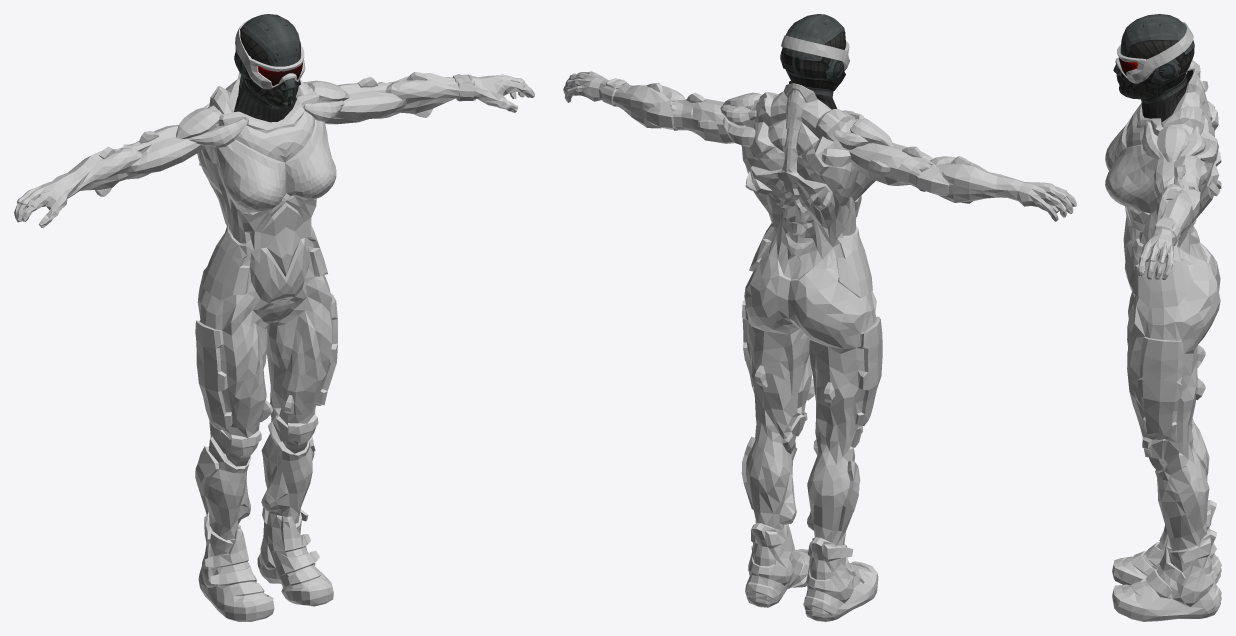
The model's file is nanosuitfemale.obj.
The picture shows the model from 3 angles, left to right: view 1: azimuth 30°, elevation 25°; view 2: azimuth 150°, elevation 25°; view 3: azimuth 270°, elevation 25°; orthographic projection.
Parts seen in each view (by area): view 1: Mesh.002_Nanosuit_Female_Nanos, Mesh.001_Nanohelmet_female_Nan, Mesh_NanaoMaskF_NanaoMaskF, Mesh.004_Nanosuit_Female_N.000; view 2: Mesh.002_Nanosuit_Female_Nanos, Mesh.001_Nanohelmet_female_Nan, Mesh_NanaoMaskF_NanaoMaskF; view 3: Mesh.002_Nanosuit_Female_Nanos, Mesh.001_Nanohelmet_female_Nan, Mesh_NanaoMaskF_NanaoMaskF, Mesh.004_Nanosuit_Female_N.000.
Boxes of the visible parts, x1,y1,x2,y2 form: Mesh.002_Nanosuit_Female_Nanos: (14,72,534,621); Mesh.001_Nanohelmet_female_Nan: (234,14,300,108); Mesh_NanaoMaskF_NanaoMaskF: (235,19,305,89); Mesh.004_Nanosuit_Female_N.000: (234,75,296,122); Mesh.002_Nanosuit_Female_Nanos: (563,71,1076,621); Mesh.001_Nanohelmet_female_Nan: (780,14,845,91); Mesh_NanaoMaskF_NanaoMaskF: (781,35,849,71); Mesh.002_Nanosuit_Female_Nanos: (1105,59,1221,621); Mesh.001_Nanohelmet_female_Nan: (1113,14,1194,99); Mesh_NanaoMaskF_NanaoMaskF: (1115,22,1193,83); Mesh.004_Nanosuit_Female_N.000: (1141,70,1193,123).
Bounding box in the file's own units: 3.37 × 3.67 × 0.6663.
